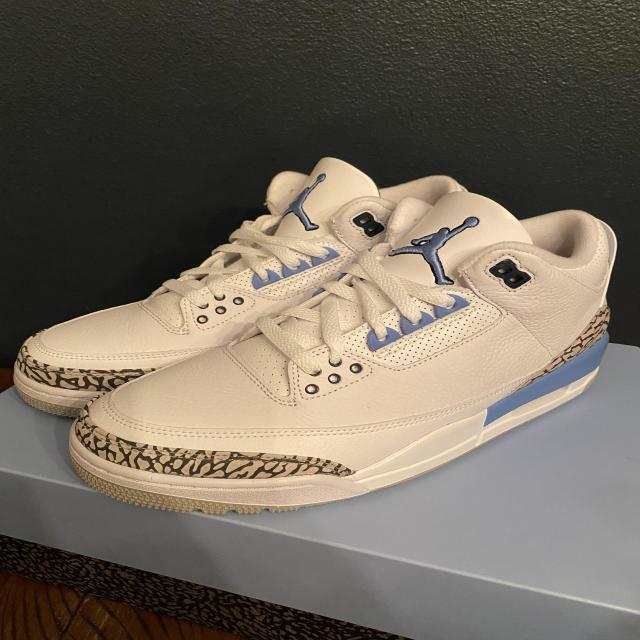shoe: (45, 172, 632, 526), (1, 138, 487, 431)
